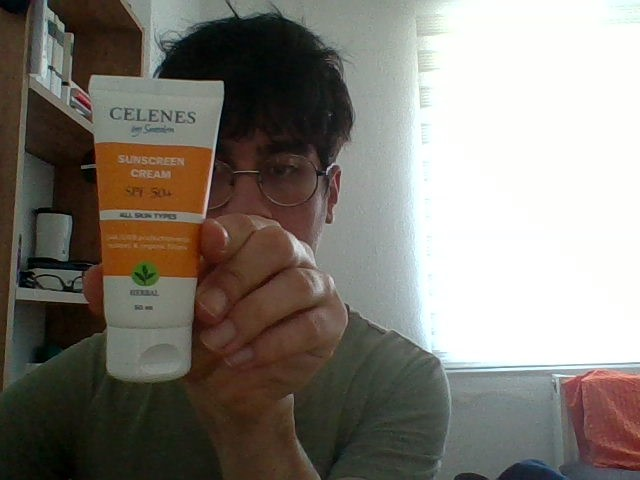CelenesSunCream: (88, 75, 225, 380)
